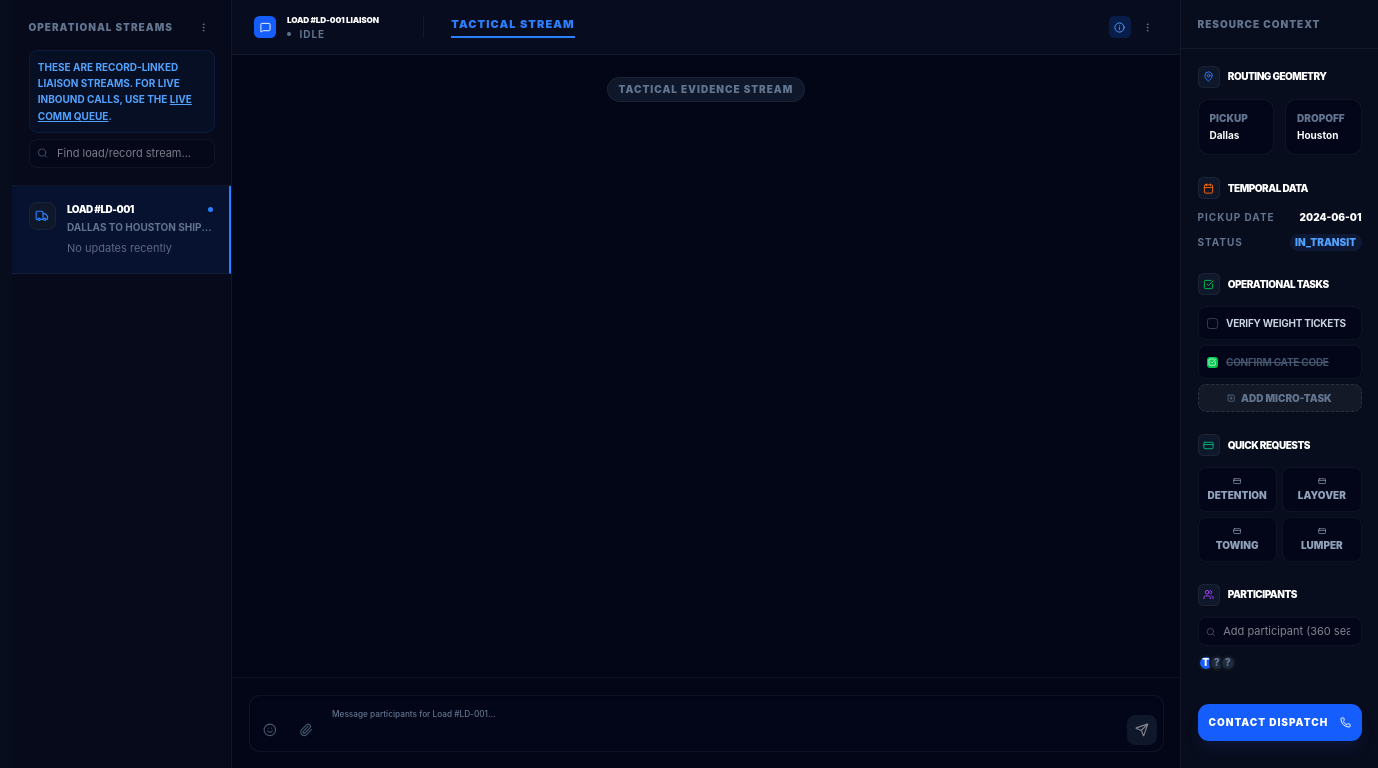
Test: OperationalMessaging component › shows error toast when message send fails
In the text box with placeholder "Message participants for Load #LD-001...": (724, 723) top-left (326, 701), bottom-right (1121, 745), type "Failing message"
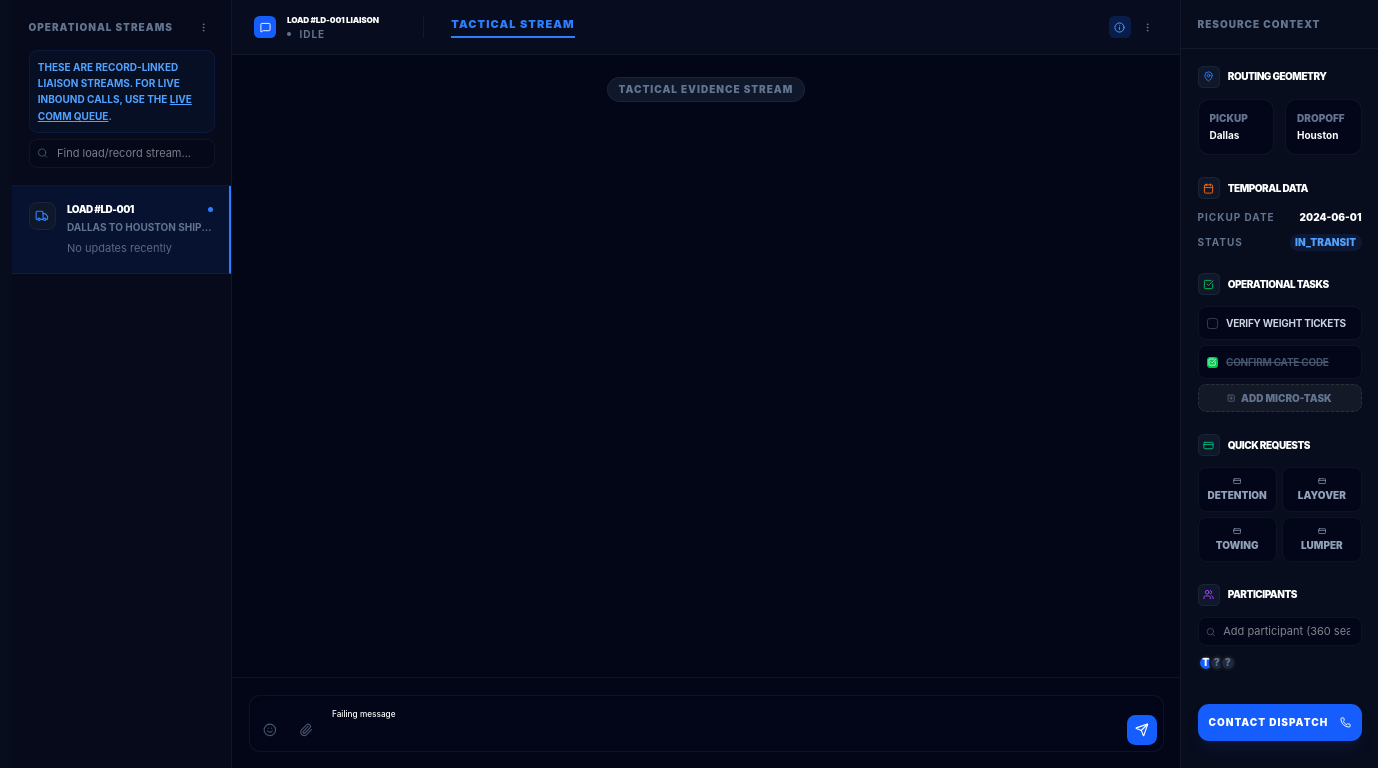
Press Enter
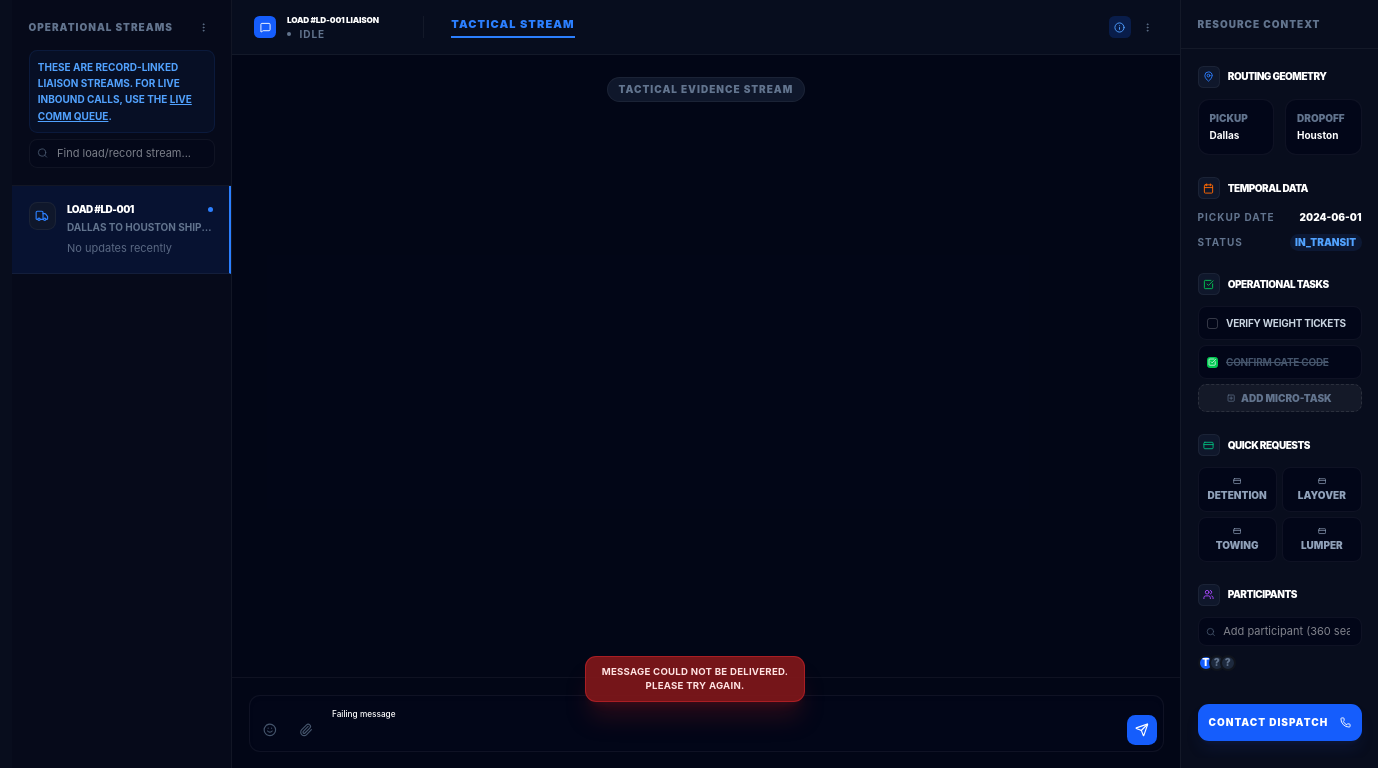
Expected: the text "Message could not be delivered. Please try again." is shown, top-left (585, 656), bottom-right (805, 702)
